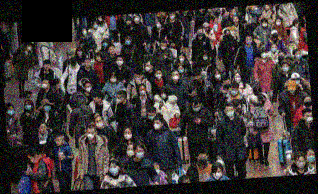with_mask: (109, 164, 120, 175), (198, 155, 209, 166), (212, 169, 223, 180), (126, 146, 136, 158), (86, 130, 96, 141), (136, 148, 145, 160), (123, 130, 133, 140), (225, 108, 235, 118), (153, 120, 162, 131), (95, 119, 104, 129), (138, 87, 148, 96), (109, 75, 119, 84), (44, 101, 52, 112), (40, 80, 49, 89), (230, 87, 239, 96), (146, 113, 157, 120), (7, 107, 15, 116), (24, 102, 32, 111), (108, 47, 117, 55), (144, 63, 152, 72), (192, 104, 201, 112), (172, 72, 180, 81), (234, 74, 242, 83), (235, 103, 243, 112), (282, 64, 290, 73), (304, 98, 312, 107), (306, 113, 313, 123), (134, 74, 142, 82), (155, 71, 163, 79), (223, 80, 231, 88), (270, 45, 278, 53), (293, 77, 301, 85), (85, 84, 92, 93), (26, 44, 33, 52), (116, 95, 123, 103), (116, 58, 123, 66), (160, 91, 167, 99), (193, 76, 201, 83), (215, 72, 222, 80), (246, 37, 253, 45), (278, 53, 285, 61), (295, 51, 302, 59), (289, 87, 297, 94), (29, 156, 36, 163), (125, 38, 132, 45), (178, 67, 185, 74), (161, 43, 168, 50), (134, 15, 141, 22), (202, 54, 209, 61), (275, 19, 282, 26), (272, 32, 279, 39), (155, 166, 161, 174), (70, 60, 78, 66), (82, 27, 88, 35), (156, 21, 162, 29), (262, 51, 268, 59), (93, 21, 99, 28), (102, 41, 108, 48), (77, 49, 83, 56), (179, 55, 185, 62), (197, 29, 203, 36), (214, 17, 220, 24), (201, 8, 207, 15), (58, 81, 63, 89), (98, 16, 104, 22), (169, 13, 175, 19), (262, 21, 268, 27), (260, 15, 265, 21), (233, 9, 237, 16), (291, 43, 296, 48), (222, 7, 226, 13)
without_mask: (39, 124, 48, 133), (44, 62, 52, 70), (84, 60, 92, 68), (55, 137, 62, 146), (93, 96, 100, 104), (66, 52, 73, 60), (95, 55, 102, 62), (204, 25, 210, 31), (233, 17, 239, 23), (226, 31, 231, 38), (126, 19, 131, 25), (264, 4, 270, 9)
